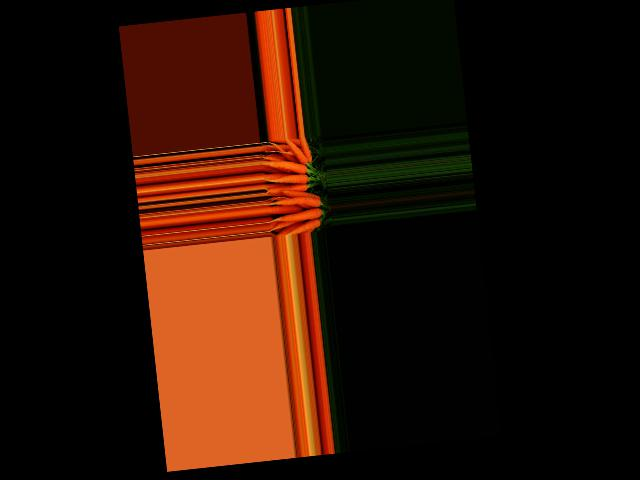carrot: (269, 206, 322, 226)
